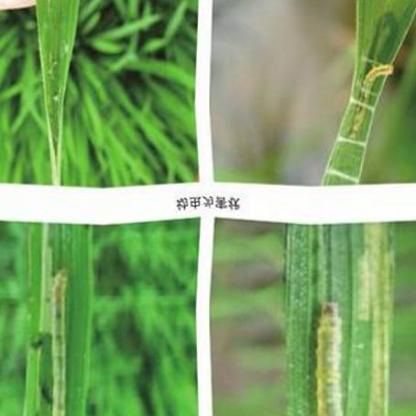leaf-folder: (42, 264, 94, 416), (305, 288, 353, 410), (342, 57, 388, 154)
